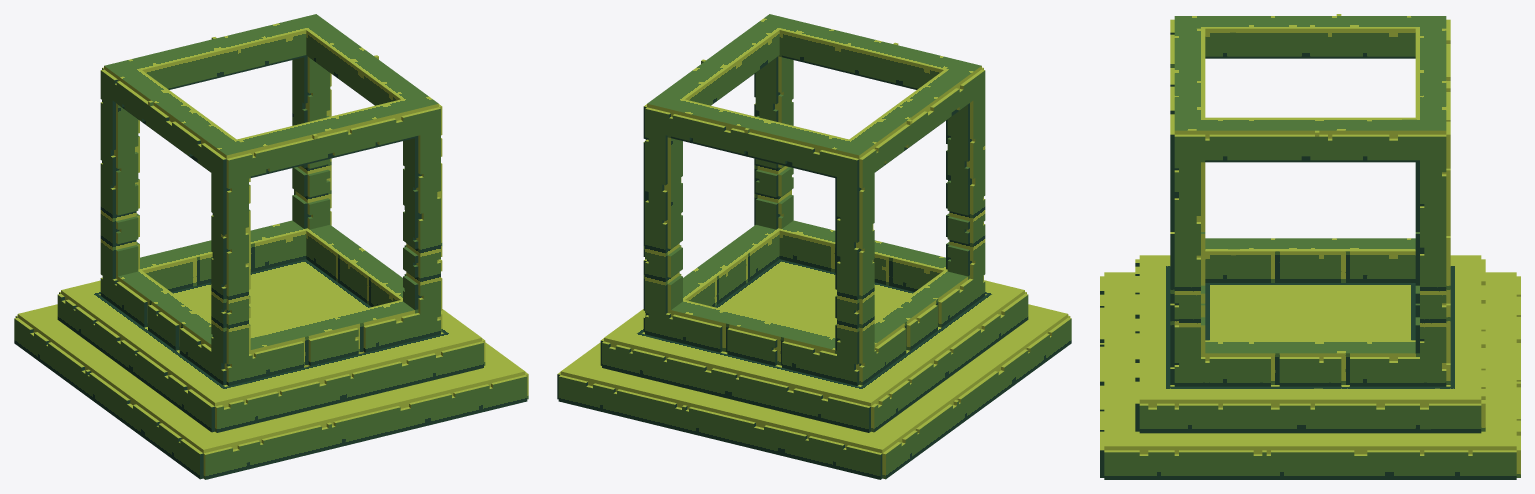
The model's file is gate_sewerao.fezao.glb.
The picture shows the model from 3 angles, left to right: view 1: azimuth 30°, elevation 25°; view 2: azimuth 150°, elevation 25°; view 3: azimuth 270°, elevation 25°; orthographic projection. The views are drawn at different scales.
Visible parts, largest first — view 1: GATE_SEWERAO; view 2: GATE_SEWERAO; view 3: GATE_SEWERAO.
Boxes of the visible parts, x1,y1,x2,y2 form: GATE_SEWERAO: (14, 14, 528, 479); GATE_SEWERAO: (557, 14, 1071, 479); GATE_SEWERAO: (1100, 14, 1520, 479).
Bounding box in the file's own units: 6 × 5 × 6.
Materials: 1 (1 with a texture image).
